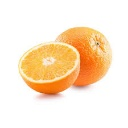orange: (52, 25, 114, 88), (18, 42, 82, 96)
